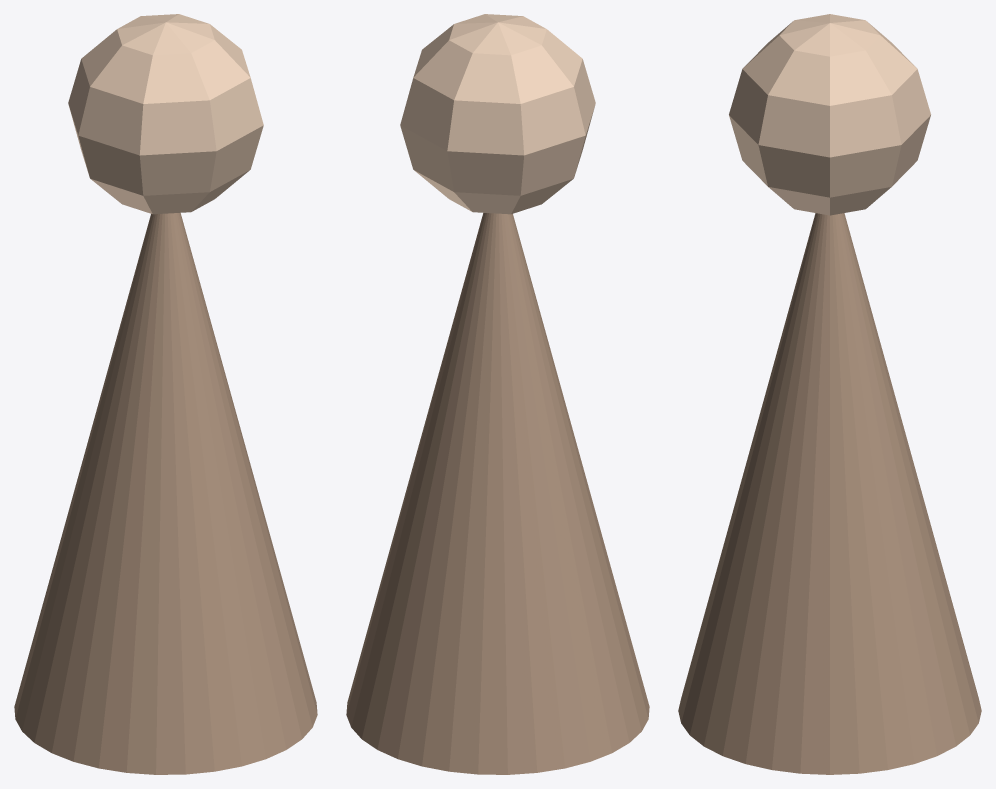
Rendered from colonist_walk_idle.glb.
3 views of the same model, side by side, from view 1: azimuth 30°, elevation 25°; view 2: azimuth 150°, elevation 25°; view 3: azimuth 270°, elevation 25° (orthographic).
Visible parts, largest first — view 1: colonist_body, colonist_head; view 2: colonist_body, colonist_head; view 3: colonist_body, colonist_head.
Part boxes in pixels (<box>): colonist_body: <box>14,213,317,774</box>; colonist_head: <box>68,14,263,214</box>; colonist_body: <box>346,213,649,774</box>; colonist_head: <box>400,14,595,214</box>; colonist_body: <box>678,213,981,774</box>; colonist_head: <box>729,14,930,215</box>.
Size of the model in its own units: 0.6 by 1.5 by 0.6.
